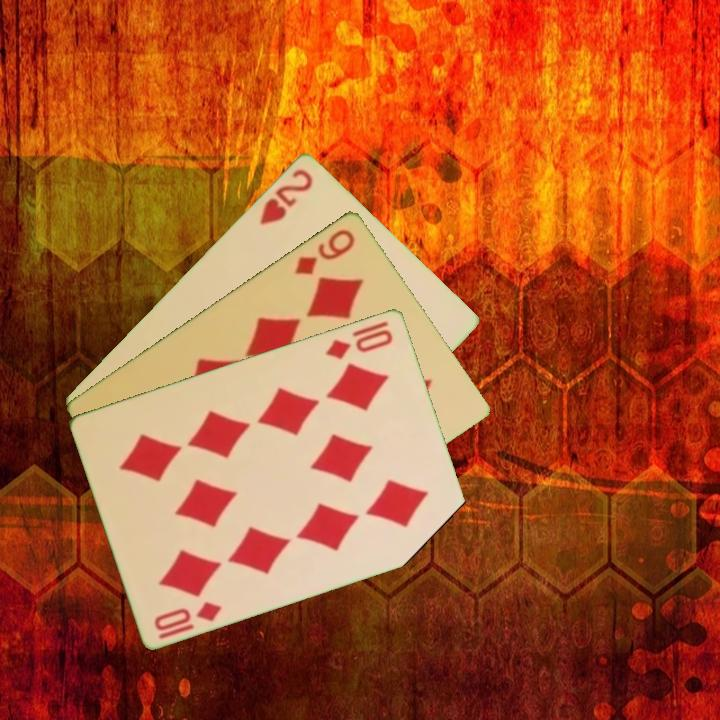10d: (321, 317, 396, 362), (150, 597, 225, 633)
2h: (255, 164, 316, 228)
9d: (291, 225, 358, 278)
